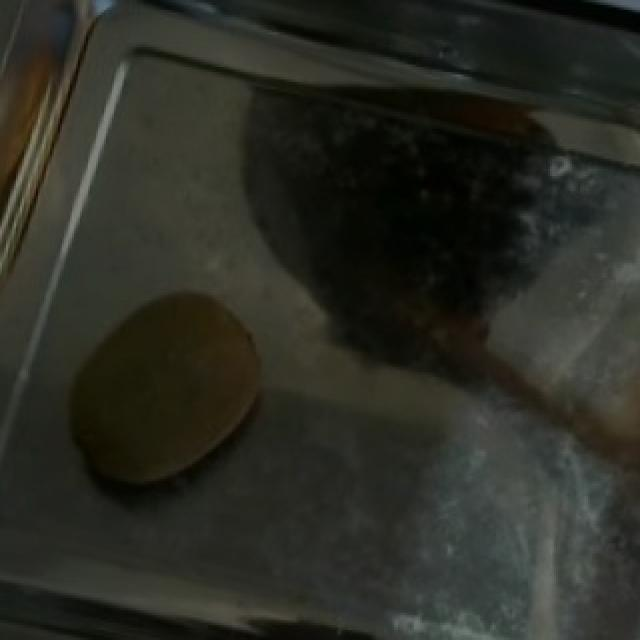Fruit: (34, 260, 296, 521)
